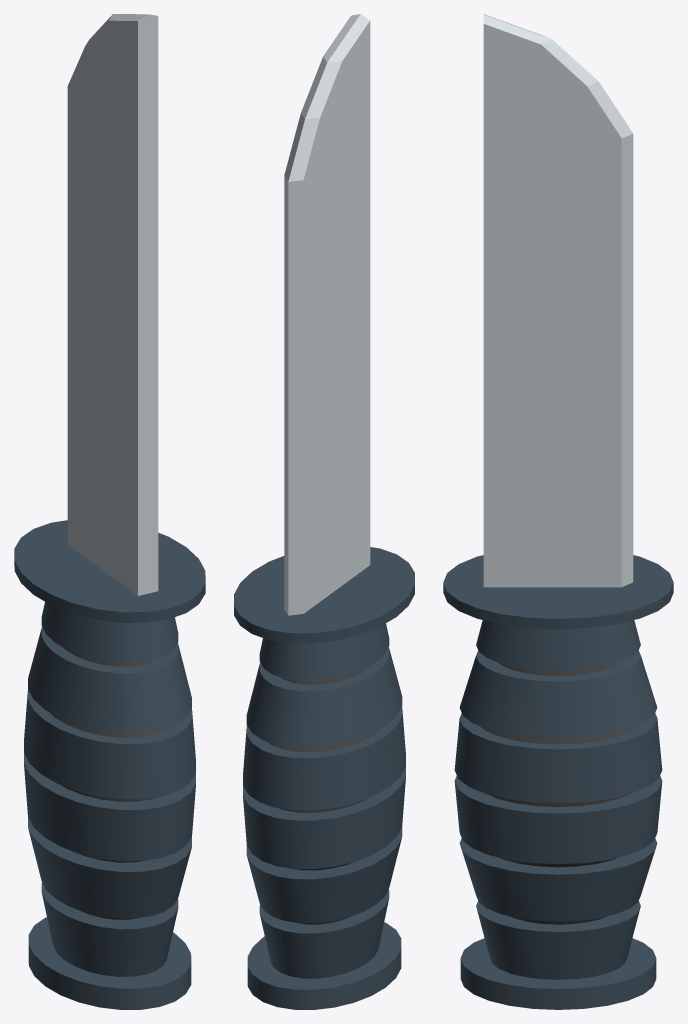
File: knifeRound_smooth.dae
3 renders of one model, left to right at view 1: azimuth 30°, elevation 25°; view 2: azimuth 150°, elevation 25°; view 3: azimuth 270°, elevation 25°, orthographic. The views are drawn at different scales.
Parts seen in each view (by area): view 1: knifeRound_smooth; view 2: knifeRound_smooth; view 3: knifeRound_smooth.
Boxes of the visible parts, <box> form: knifeRound_smooth: <box>14,14,205,1009</box>; knifeRound_smooth: <box>234,14,414,1009</box>; knifeRound_smooth: <box>443,14,673,1009</box>.
Size of the model in its own units: 0.0574 by 0.3537 by 0.0766.
